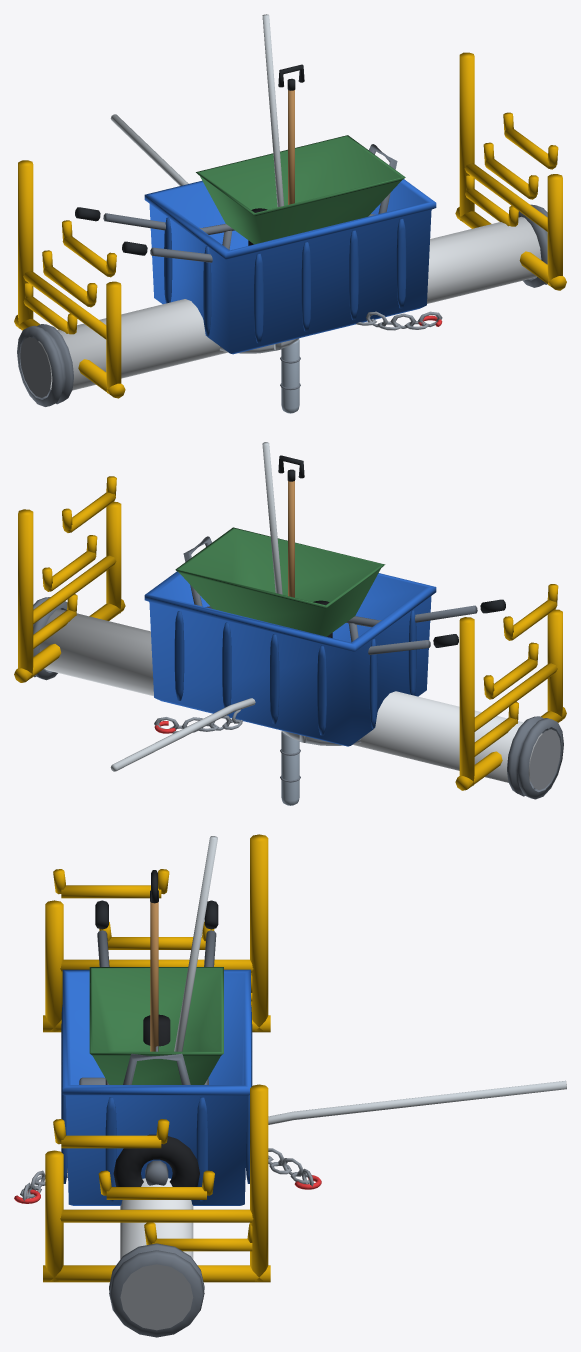
Rendered from props.glb.
The picture shows the model from 3 angles, top to bottom: view 1: azimuth 30°, elevation 25°; view 2: azimuth 150°, elevation 25°; view 3: azimuth 270°, elevation 25°; orthographic projection. The views are drawn at different scales.
Visible parts, largest first — view 1: SparesBin, Pipe3m, PipeRack, Wheelbarrow, ConcreteRake, PokerHead, Shovel, ChainSling, BullFloat; view 2: SparesBin, PipeRack, Pipe3m, Wheelbarrow, BullFloat, PokerHead, Shovel, ConcreteRake, ChainSling; view 3: PipeRack, SparesBin, Wheelbarrow, Pipe3m, BullFloat, ConcreteRake, Shovel, ChainSling, PokerMotor, PokerSkid.
Boxes of the visible parts, left/top/right/bottom form: SparesBin: left=144, top=179, right=436, bottom=354; Pipe3m: left=17, top=204, right=547, bottom=406; PipeRack: left=14, top=52, right=566, bottom=398; Wheelbarrow: left=75, top=135, right=405, bottom=262; ConcreteRake: left=262, top=14, right=284, bottom=207; PokerHead: left=280, top=339, right=300, bottom=413; Shovel: left=278, top=64, right=304, bottom=204; ChainSling: left=356, top=311, right=442, bottom=330; BullFloat: left=110, top=114, right=188, bottom=185; SparesBin: left=144, top=571, right=436, bottom=746; PipeRack: left=14, top=476, right=566, bottom=790; Pipe3m: left=33, top=597, right=563, bottom=799; Wheelbarrow: left=175, top=527, right=505, bottom=654; BullFloat: left=110, top=698, right=255, bottom=771; PokerHead: left=280, top=731, right=300, bottom=805; Shovel: left=278, top=455, right=304, bottom=597; ConcreteRake: left=262, top=442, right=282, bottom=594; ChainSling: left=154, top=709, right=242, bottom=733; PipeRack: left=43, top=834, right=270, bottom=1282; SparesBin: left=61, top=969, right=252, bottom=1205; Wheelbarrow: left=89, top=900, right=223, bottom=1186; Pipe3m: left=109, top=1178, right=204, bottom=1337; BullFloat: left=268, top=1080, right=566, bottom=1124; ConcreteRake: left=174, top=836, right=217, bottom=1051; Shovel: left=150, top=870, right=158, bottom=1051; ChainSling: left=14, top=1148, right=321, bottom=1203; PokerMotor: left=79, top=1014, right=170, bottom=1084; PokerSkid: left=123, top=1053, right=190, bottom=1084.
Size of the model in its own units: 3 by 2.13 by 2.43.
